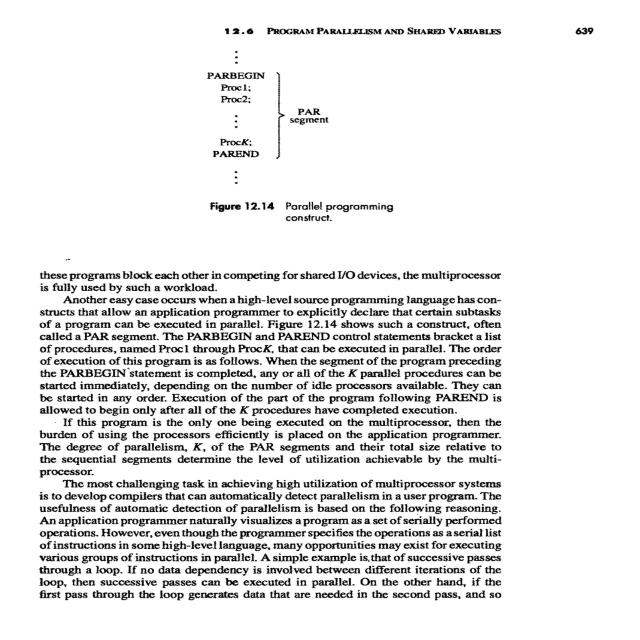diagram: (104, 49, 601, 270)
